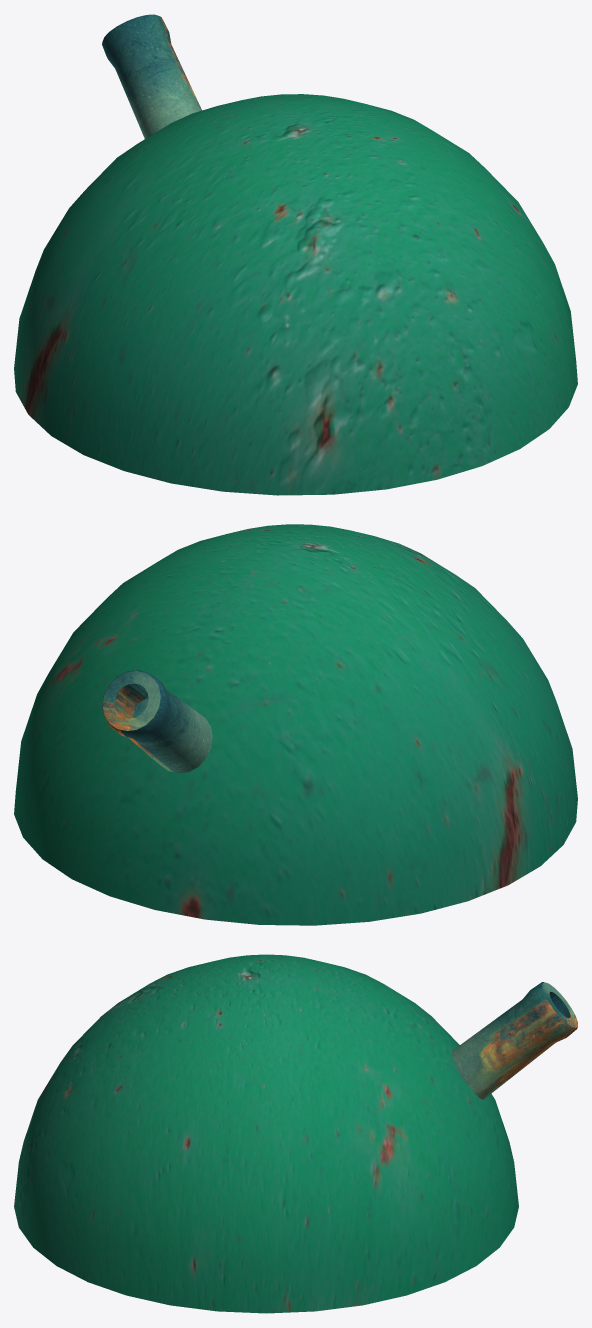
File: Tower_Cannon.fbx
3 renders of one model, top to bottom at view 1: azimuth 30°, elevation 25°; view 2: azimuth 150°, elevation 25°; view 3: azimuth 270°, elevation 25°, orthographic. The views are drawn at different scales.
Visible parts, largest first — view 1: Sphere001, Cylinder001; view 2: Sphere001, Cylinder001; view 3: Sphere001, Cylinder001.
Boxes of the visible parts, x1,y1,x2,y2 form: Sphere001: [14, 94, 577, 495]; Cylinder001: [102, 14, 201, 138]; Sphere001: [14, 524, 577, 925]; Cylinder001: [102, 670, 212, 773]; Sphere001: [14, 954, 518, 1313]; Cylinder001: [452, 982, 577, 1099].
Size of the model in its own units: 33.82 by 16.91 by 37.77.
3 materials, 2 textured.
